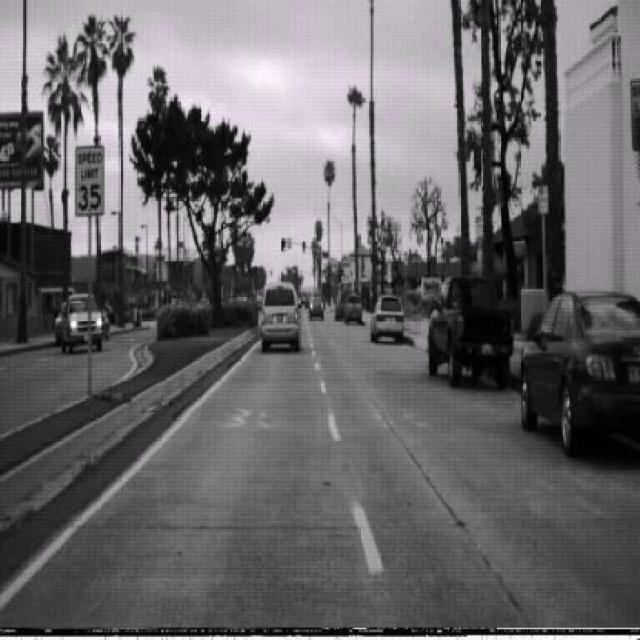speedLimit35: (74, 143, 105, 217)
